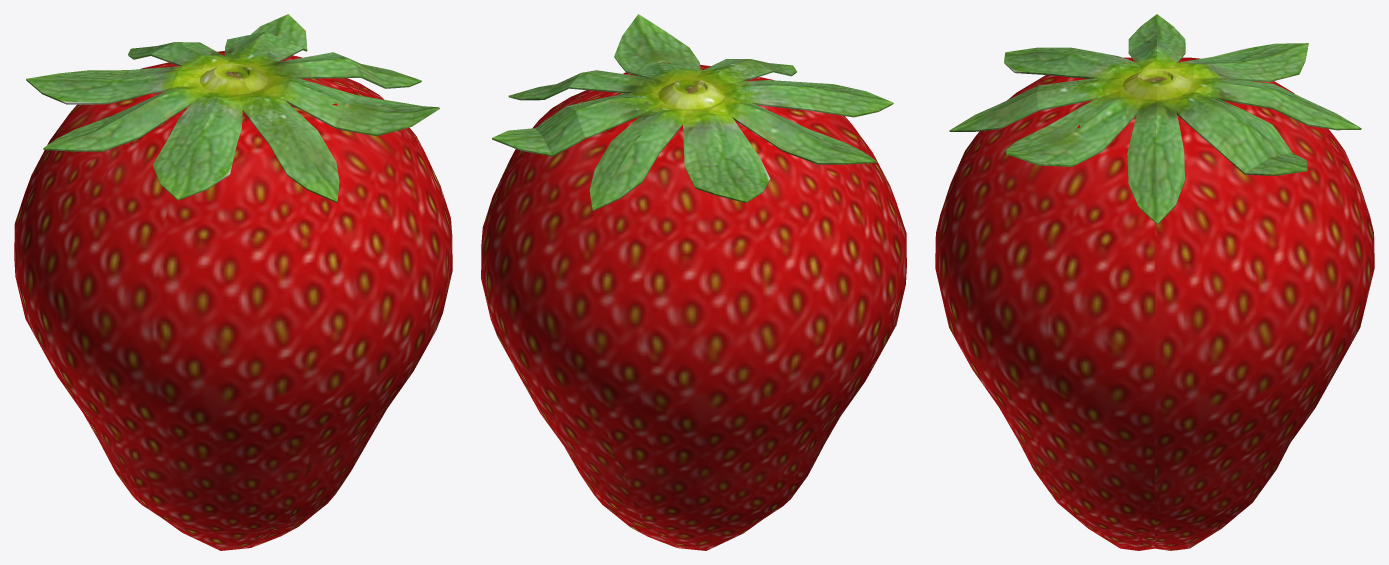
Rendered from model_ichigo_170508.FBX.
3 views of the same model, side by side, from view 1: azimuth 30°, elevation 25°; view 2: azimuth 150°, elevation 25°; view 3: azimuth 270°, elevation 25° (orthographic). The views are drawn at different scales.
Visible parts, largest first — view 1: ichigo_Red_body, ichigo_Rnd_teta001; view 2: ichigo_Red_body, ichigo_Rnd_teta001; view 3: ichigo_Red_body, ichigo_Rnd_teta001.
Boxes of the visible parts, box(x1,y1,x2,y2) form: ichigo_Red_body: box(14, 51, 452, 550); ichigo_Rnd_teta001: box(26, 14, 439, 202); ichigo_Red_body: box(481, 63, 906, 550); ichigo_Rnd_teta001: box(492, 14, 893, 210); ichigo_Red_body: box(935, 57, 1374, 550); ichigo_Rnd_teta001: box(949, 14, 1361, 224).
Size of the model in its own units: 1.33 by 1.56 by 1.33.
2 materials, 2 textured.
